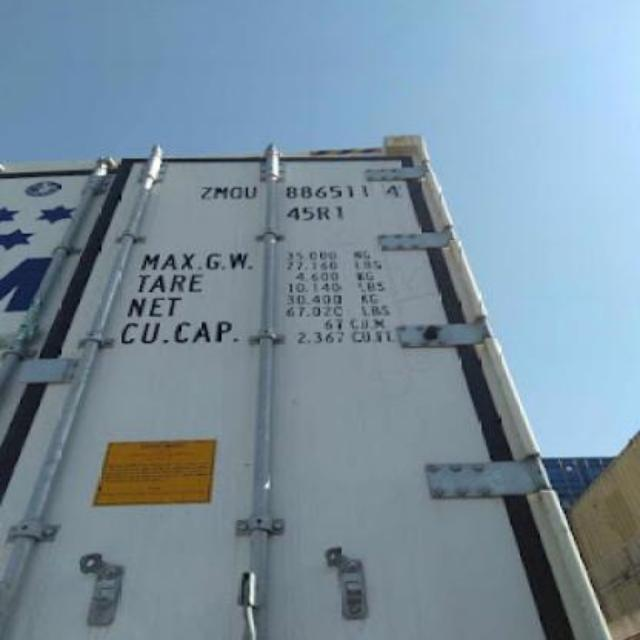1: (344, 183, 358, 201), (358, 184, 372, 200)
4: (386, 185, 399, 198)
5: (328, 183, 344, 201)
6: (314, 183, 328, 201)
8: (300, 184, 314, 200), (286, 186, 298, 200)
M: (212, 186, 230, 200)
O: (230, 186, 242, 202)
U: (245, 186, 258, 202)
Z: (198, 185, 214, 201)
